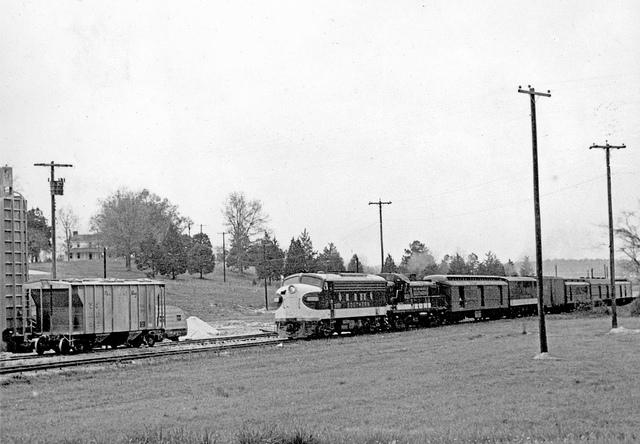Train: (275, 275, 634, 338)
